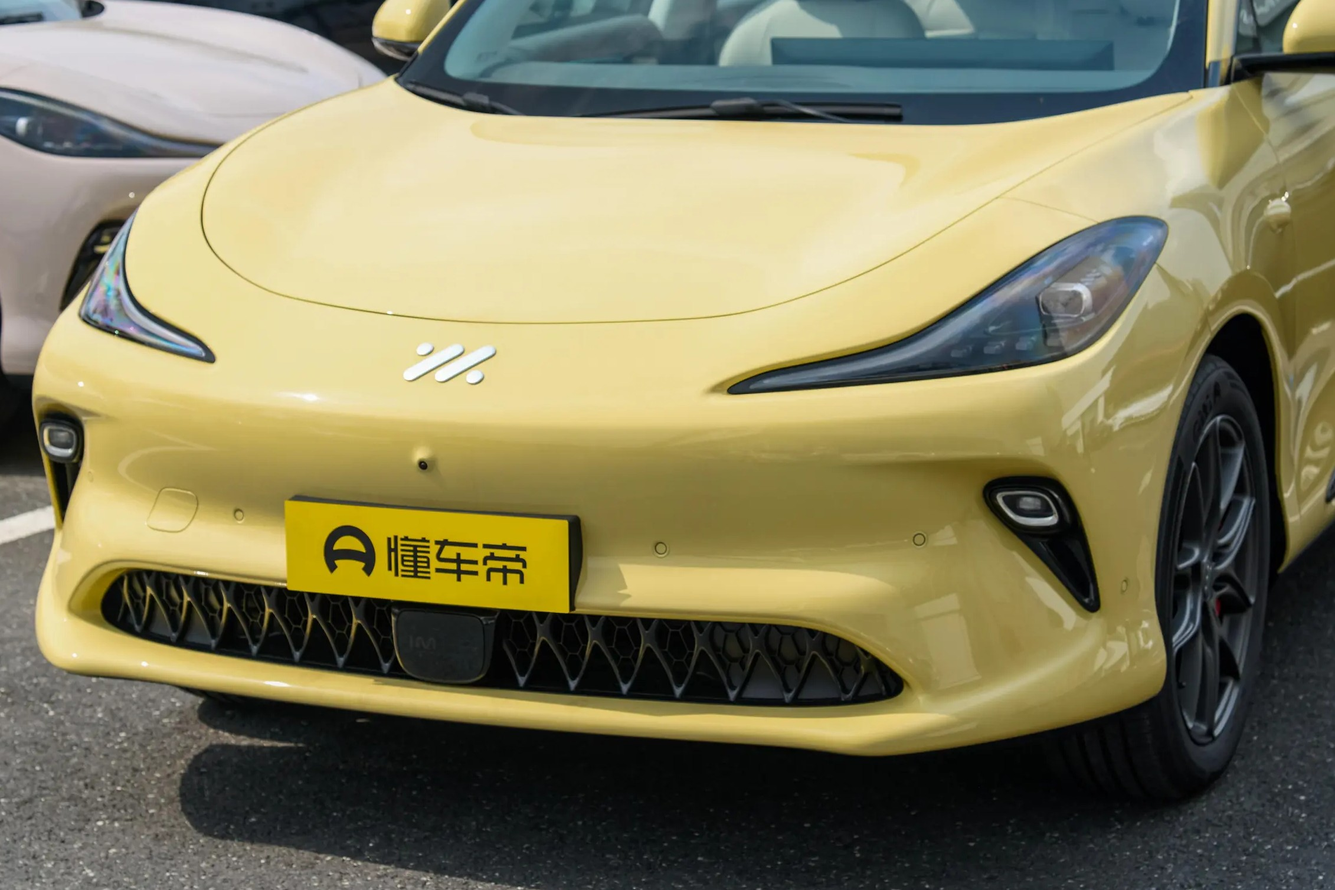IM: (404, 344, 495, 384)
